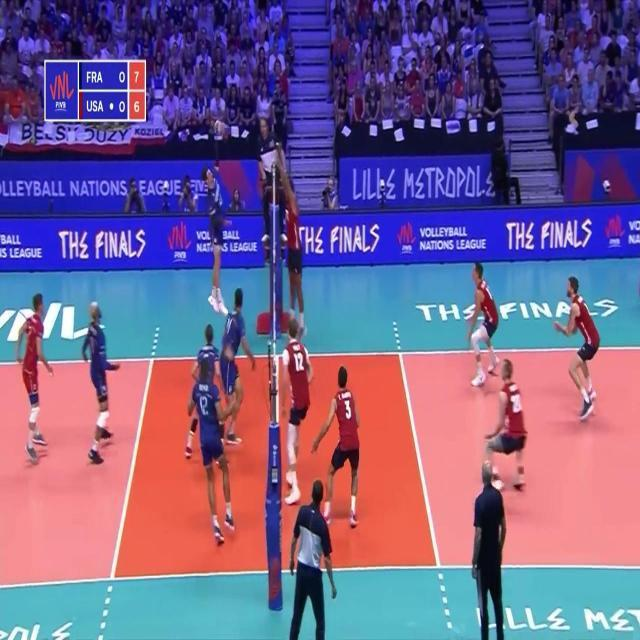volleyball: (213, 120, 226, 134)
